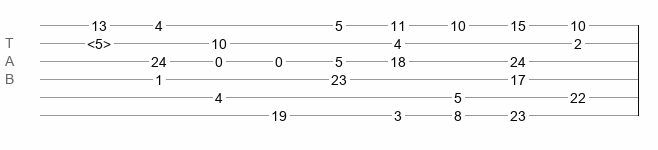0: (215, 54, 223, 64), (275, 54, 283, 64)
1: (155, 72, 163, 82)
10: (211, 36, 227, 46), (450, 18, 466, 28), (570, 18, 586, 28)
11: (390, 18, 406, 28)
13: (91, 18, 107, 28)
15: (510, 18, 526, 28)
17: (510, 72, 526, 82)
18: (390, 54, 406, 64)
19: (271, 108, 287, 118)
2: (574, 36, 582, 46)
22: (570, 90, 586, 100)
23: (331, 72, 347, 82), (510, 108, 526, 118)
24: (151, 54, 167, 64), (510, 54, 526, 64)
3: (394, 108, 402, 118)
4: (155, 18, 163, 28), (215, 90, 223, 100), (394, 36, 402, 46)
5: (335, 54, 343, 64), (335, 18, 343, 28), (454, 90, 462, 100)
8: (454, 108, 462, 118)
harmonic: (87, 36, 111, 46)
